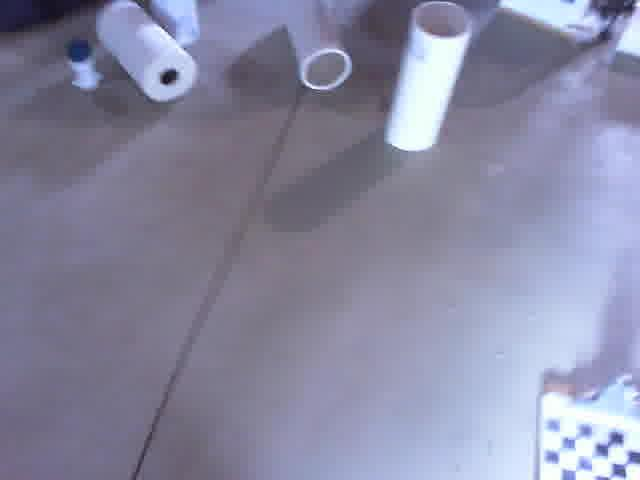coral: (377, 0, 486, 156), (278, 0, 349, 90)
